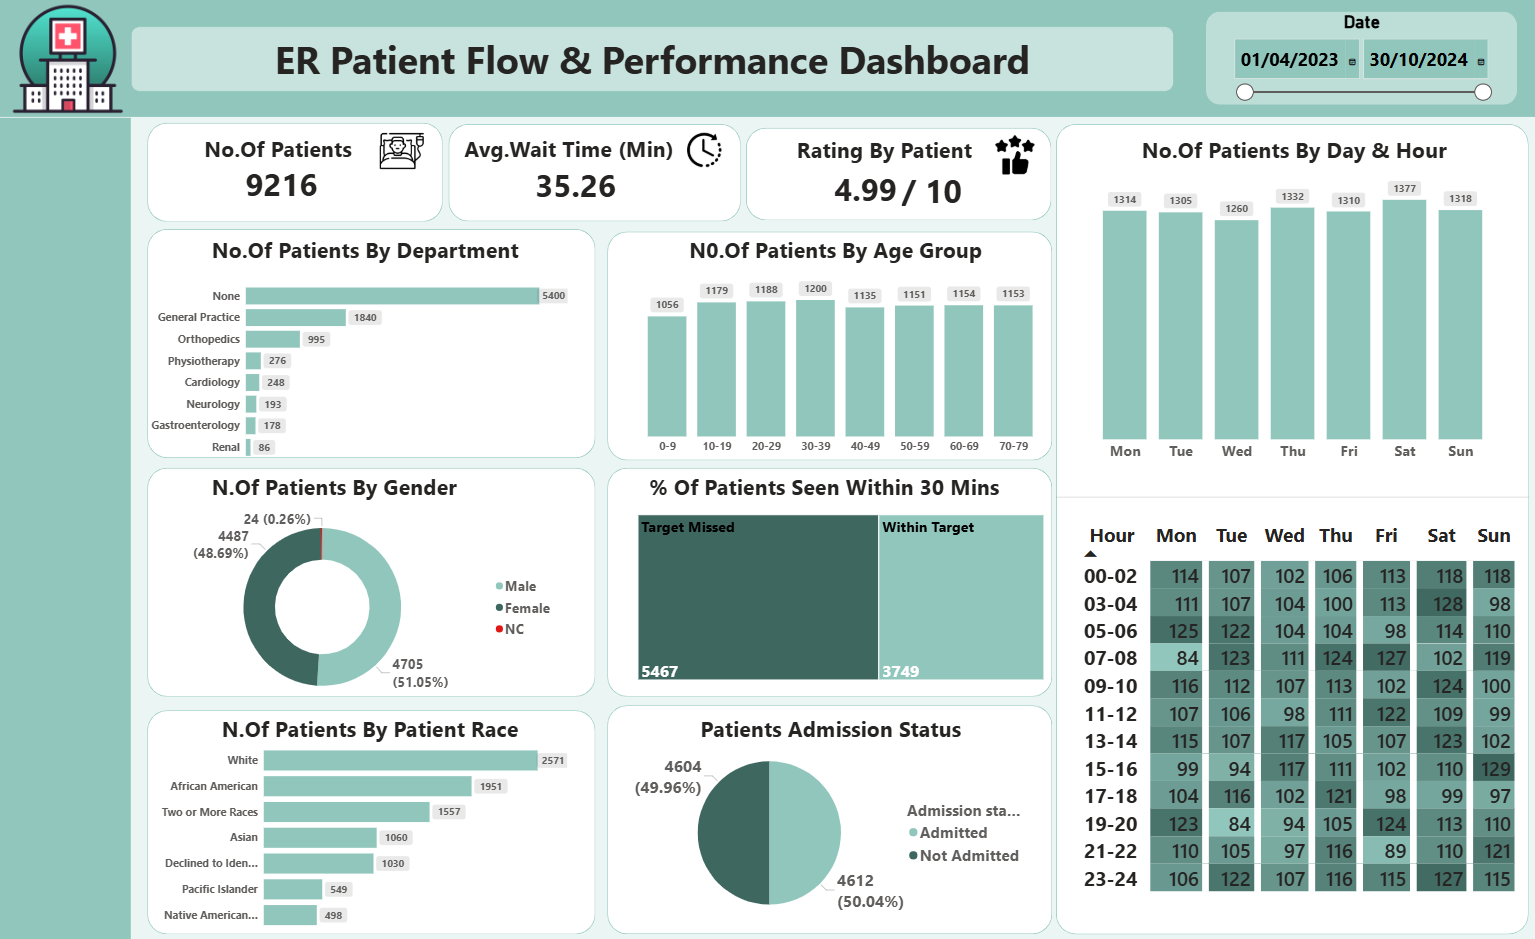

Layout of this report page (visuals, bound fields, positions):
{"tool":"powerbi","page":{"name":"Page 1","canvas":[2300,1400],"ordinal":0},"visuals":[{"type":"shape","box":[0,0,2300,175.6],"z":0},{"type":"shape","box":[0,176.6,200.8,1223.9],"z":1000},{"type":"image","box":[12.2,0,187.8,178],"z":2000},{"type":"textbox","box":[200.8,41.1,1552.9,96.8],"z":3000},{"type":"shape","box":[1802.4,19.5,463.4,139],"z":4000},{"type":"slicer","title":"Date","fields":{"Values":["Hospital ER_Data.Patient Admission Date"]},"box":[1831.7,19.5,404.9,139],"z":5000},{"type":"shape","box":[224.9,183.8,440.2,147.5],"z":6000},{"type":"shape","box":[674.8,186.2,435.4,145.1],"z":7000},{"type":"shape","box":[1117.5,191.1,454.7,137.9],"z":8000},{"type":"cardVisual","fields":{"Data":["Count(Hospital ER_Data.Patient Id)"]},"box":[343.5,205.6,179,137.9],"z":9000},{"type":"textbox","box":[304.8,195.9,270.9,87.1],"z":10000},{"type":"shape","box":[224.9,343.5,667.6,341.1],"z":11000},{"type":"cardVisual","fields":{"Data":["Avg(Hospital ER_Data.Patient Waittime)"]},"box":[774,215.3,234.6,118.5],"z":12000},{"type":"textbox","box":[317.1,346.3,480.5,85.4],"z":13000},{"type":"cardVisual","fields":{"Data":["Avg(Hospital ER_Data.Patient Satisfaction Score)"]},"box":[1243.3,224.9,200.8,108.8],"z":14000},{"type":"textbox","box":[1187.8,197.6,312.2,82.9],"z":15000},{"type":"clusteredBarChart","fields":{"Y":["CountNonNull(Hospital ER_Data.Patient Id)"],"Category":["Hospital ER_Data.Department Referral"]},"box":[224.9,403.9,631.3,295.1],"z":16000},{"type":"textbox","box":[691.8,195.9,336.2,87.1],"z":17000},{"type":"shape","box":[909.5,345.9,662.8,341.1],"z":18000},{"type":"columnChart","fields":{"Category":["Hospital ER_Data.Age group"],"Y":["CountNonNull(Hospital ER_Data.Patient Id)"]},"box":[936.1,408.8,643.4,278.2],"z":19000},{"type":"shape","box":[224.9,699,667.6,341.1],"z":20000},{"type":"donutChart","fields":{"Category":["Hospital ER_Data.Patient Gender"],"Y":["CountNonNull(Hospital ER_Data.Patient Id)"]},"box":[224.4,743.9,614.6,322],"z":21000},{"type":"shape","box":[909.5,1052.2,662.8,348.3],"z":22000},{"type":"shape","box":[909.5,699,662.8,341.1],"z":23000},{"type":"treemap","fields":{"Group":["Hospital ER_Data.Patient seen <30min"],"Values":["CountNonNull(Hospital ER_Data.Patient Id)"]},"box":[951.2,763.4,614.6,256.1],"z":24000},{"type":"pieChart","fields":{"Category":["Hospital ER_Data.Admission status"],"Y":["CountNonNull(Hospital ER_Data.Patient Id)"]},"box":[941.5,1090.2,604.9,302.4],"z":25000},{"type":"shape","box":[1579.5,186.2,703.9,1207],"z":26000},{"type":"pivotTable","fields":{"Rows":["Hospital ER_Data.Waittime Interval"],"Columns":["Hospital ER_Data.Day name"],"Values":["Count(Hospital ER_Data.Patient Id)"]},"box":[1609.8,773.2,663.4,626.8],"z":27000},{"type":"columnChart","fields":{"Category":["Hospital ER_Data.Day name"],"Y":["CountNonNull(Hospital ER_Data.Patient Id)"]},"box":[1610.9,258.8,643.4,440.2],"z":28000},{"type":"shape","box":[1579.5,595,703.9,292.7],"z":29000},{"type":"shape","box":[224.4,1058.5,668.3,341.5],"z":30000},{"type":"clusteredBarChart","fields":{"Y":["CountNonNull(Hospital ER_Data.Patient Id)"],"Category":["Hospital ER_Data.Patient Race"]},"box":[229.3,1090.2,626.8,309.8],"z":31000},{"type":"textbox","box":[1026.8,346.3,463.4,63.4],"z":32000},{"type":"textbox","box":[1702.4,197.6,487.8,63.4],"z":33000},{"type":"textbox","box":[317.1,700,487.8,63.4],"z":34000},{"type":"textbox","box":[968.3,700,551.2,63.4],"z":35000},{"type":"textbox","box":[331.7,1058.5,487.8,63.4],"z":36000},{"type":"textbox","box":[1043.9,1058.5,419.5,63.4],"z":37000},{"type":"image","box":[570.7,165.9,65.9,122],"z":38000},{"type":"image","box":[1026.8,200,53.7,51.2],"z":39000},{"type":"image","box":[1475.6,202.4,82.9,58.5],"z":40000}]}

Visuals, with their boxes in screenshot pixels (x1, y1, x2, y2), scaled from the page's 2300x1400 canvas onto the 1535x939 screenshot:
shape: 0:0:1534:118
shape: 0:118:134:938
image: 8:0:133:119
textbox: 134:28:1170:92
shape: 1203:13:1512:106
"Date" slicer: 1222:13:1493:106
shape: 150:123:444:222
shape: 450:125:741:222
shape: 746:128:1049:221
cardVisual - Count(Hospital ER_Data.Patient Id): 229:138:349:230
textbox: 203:131:384:190
shape: 150:230:596:459
cardVisual - Avg(Hospital ER_Data.Patient Waittime): 517:144:673:224
textbox: 212:232:532:290
cardVisual - Avg(Hospital ER_Data.Patient Satisfaction Score): 830:151:964:224
textbox: 793:133:1001:188
clusteredBarChart - CountNonNull(Hospital ER_Data.Patient Id) x Hospital ER_Data.Department Referral: 150:271:571:469
textbox: 462:131:686:190
shape: 607:232:1049:461
columnChart - Hospital ER_Data.Age group x CountNonNull(Hospital ER_Data.Patient Id): 625:274:1054:461
shape: 150:469:596:698
donutChart - Hospital ER_Data.Patient Gender x CountNonNull(Hospital ER_Data.Patient Id): 150:499:560:715
shape: 607:706:1049:938
shape: 607:469:1049:698
treemap - Hospital ER_Data.Patient seen <30min x CountNonNull(Hospital ER_Data.Patient Id): 635:512:1045:684
pieChart - Hospital ER_Data.Admission status x CountNonNull(Hospital ER_Data.Patient Id): 628:731:1032:934
shape: 1054:125:1524:934
pivotTable - Hospital ER_Data.Waittime Interval x Hospital ER_Data.Day name: 1074:519:1517:938
columnChart - Hospital ER_Data.Day name x CountNonNull(Hospital ER_Data.Patient Id): 1075:174:1505:469
shape: 1054:399:1524:595
shape: 150:710:596:938
clusteredBarChart - CountNonNull(Hospital ER_Data.Patient Id) x Hospital ER_Data.Patient Race: 153:731:571:938
textbox: 685:232:995:275
textbox: 1136:133:1462:175
textbox: 212:470:537:512
textbox: 646:470:1014:512
textbox: 221:710:547:752
textbox: 697:710:977:752
image: 381:111:425:193
image: 685:134:721:168
image: 985:136:1040:175
